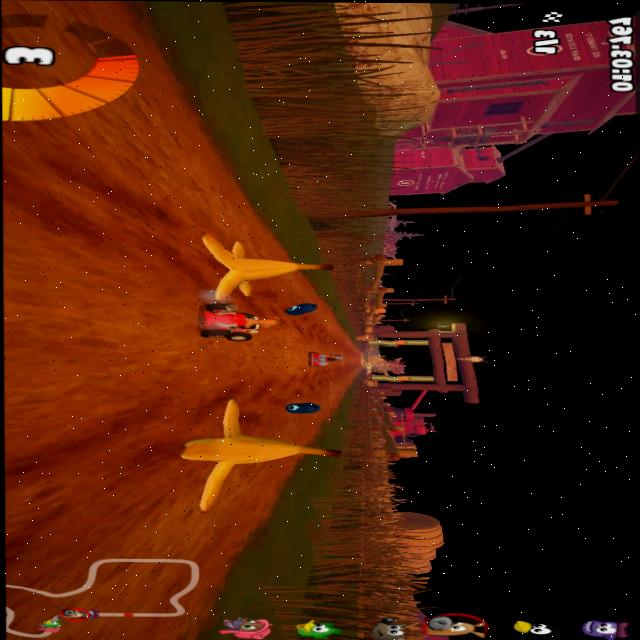enemy_kart: (307, 347, 343, 371)
nitro: (283, 299, 326, 321), (277, 400, 323, 414)
obstacle: (173, 401, 288, 502), (196, 233, 310, 300)
player_kart: (195, 303, 273, 351)
track: (8, 128, 173, 521), (180, 356, 282, 397), (165, 515, 250, 558), (189, 126, 210, 228), (211, 190, 261, 228), (290, 378, 362, 397), (291, 324, 349, 344), (358, 348, 368, 371)
